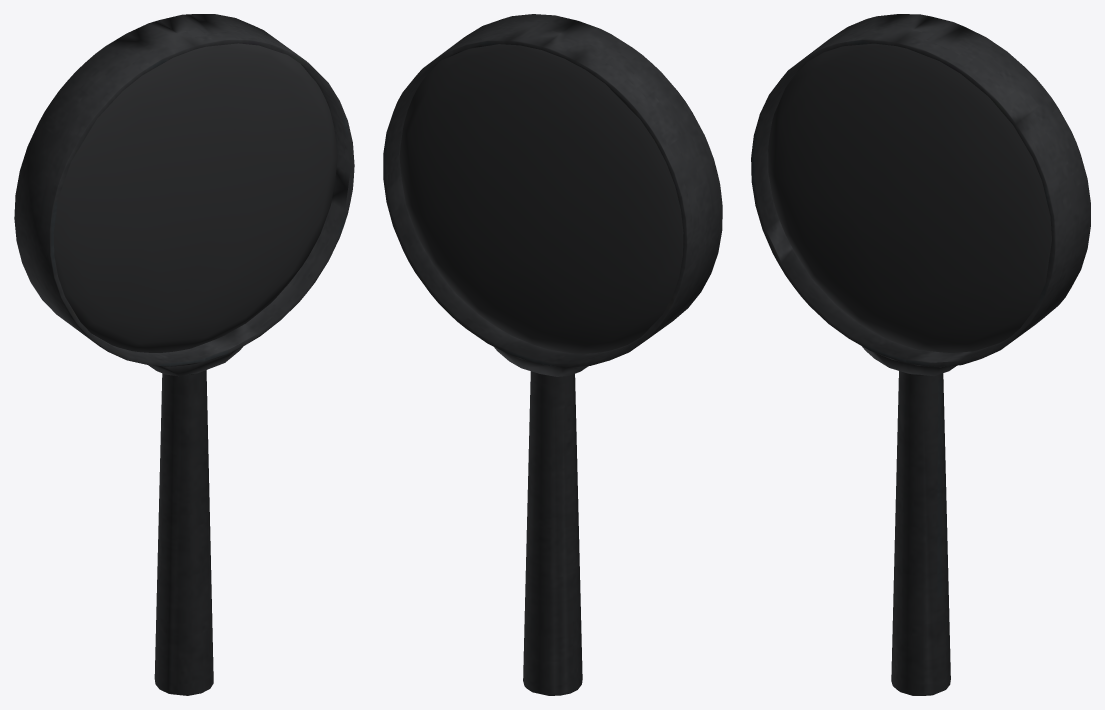
File: lupe.glb
The picture shows the model from 3 angles, left to right: view 1: azimuth 30°, elevation 25°; view 2: azimuth 150°, elevation 25°; view 3: azimuth 330°, elevation 25°; orthographic projection.
Visible parts, largest first — view 1: magnifying_glass_01; view 2: magnifying_glass_01; view 3: magnifying_glass_01.
Part boxes in pixels (x1,y1,x2,y2): magnifying_glass_01: (14, 14, 354, 695); magnifying_glass_01: (383, 14, 722, 695); magnifying_glass_01: (751, 14, 1090, 695).
Size of the model in its own units: 0.132 by 0.2711 by 0.0267.
Materials: 1 (1 with a texture image).
